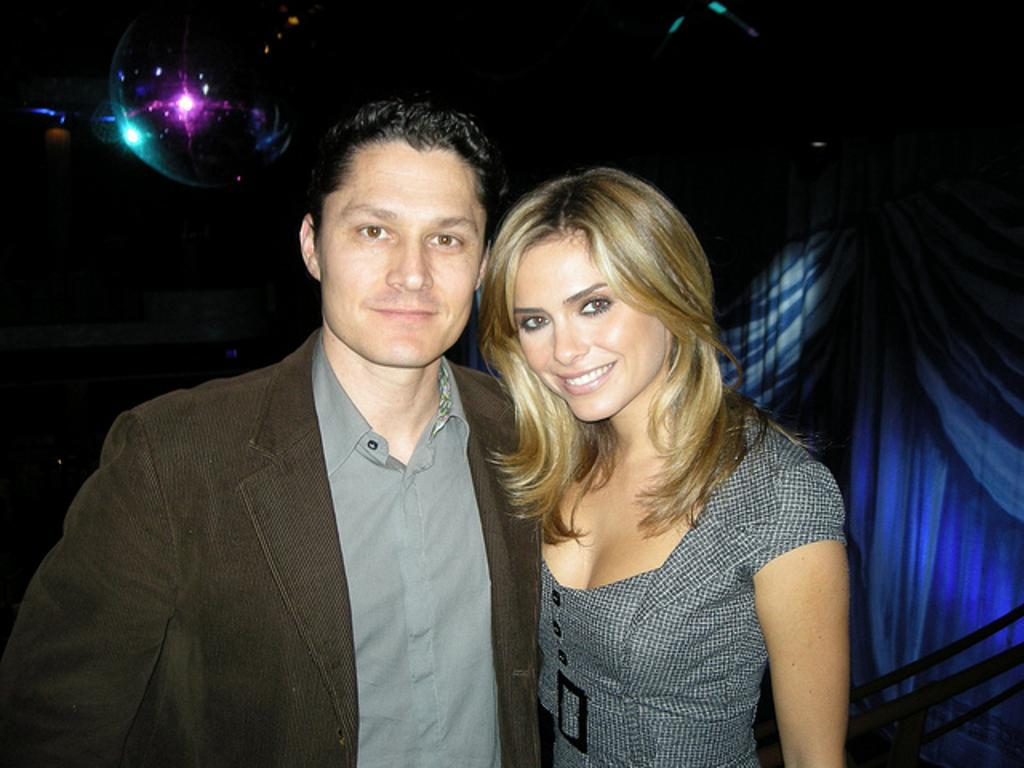face: (324, 142, 482, 366), (516, 232, 674, 422)
